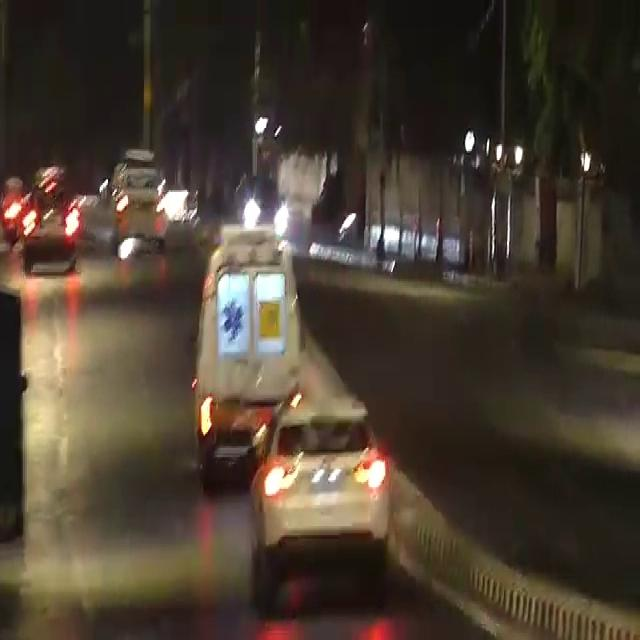ambulance: (185, 252, 303, 415)
